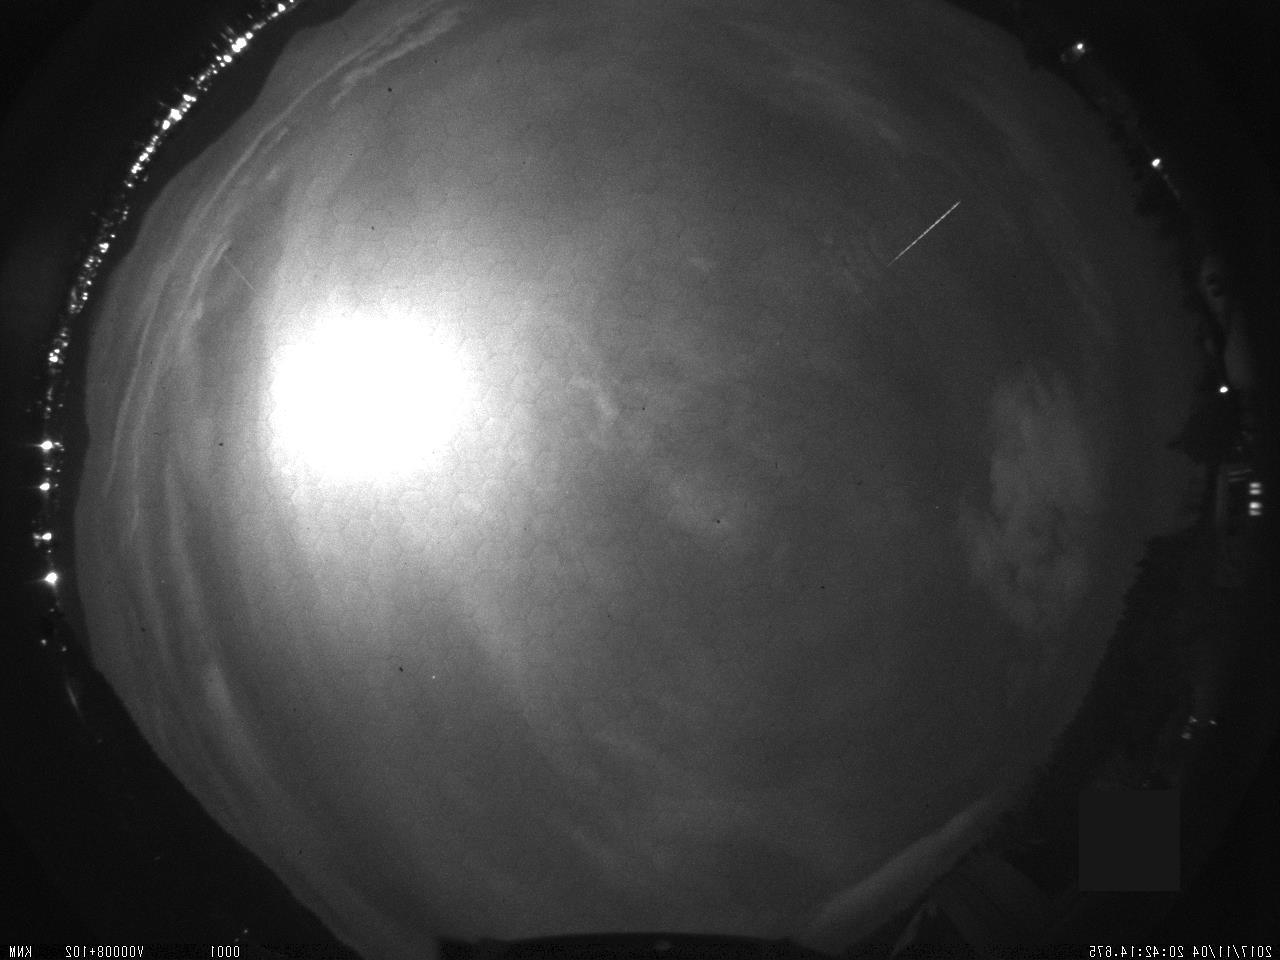meteor: (869, 193, 984, 278)
